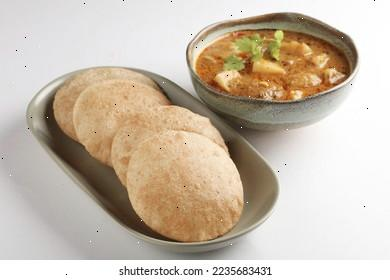puri: (47, 69, 220, 256)
